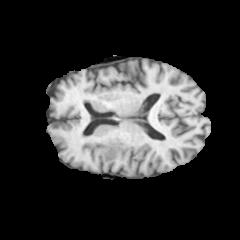glioma: (82, 133, 127, 163)
